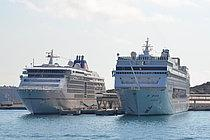Ship: (113, 36, 197, 120), (16, 47, 112, 118)
